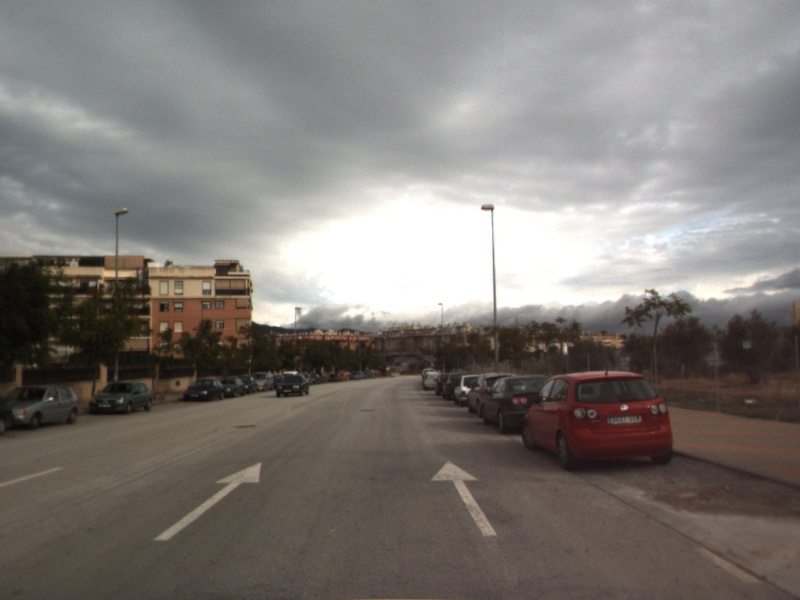STRAIGHT: (151, 460, 264, 543), (428, 458, 499, 538)
